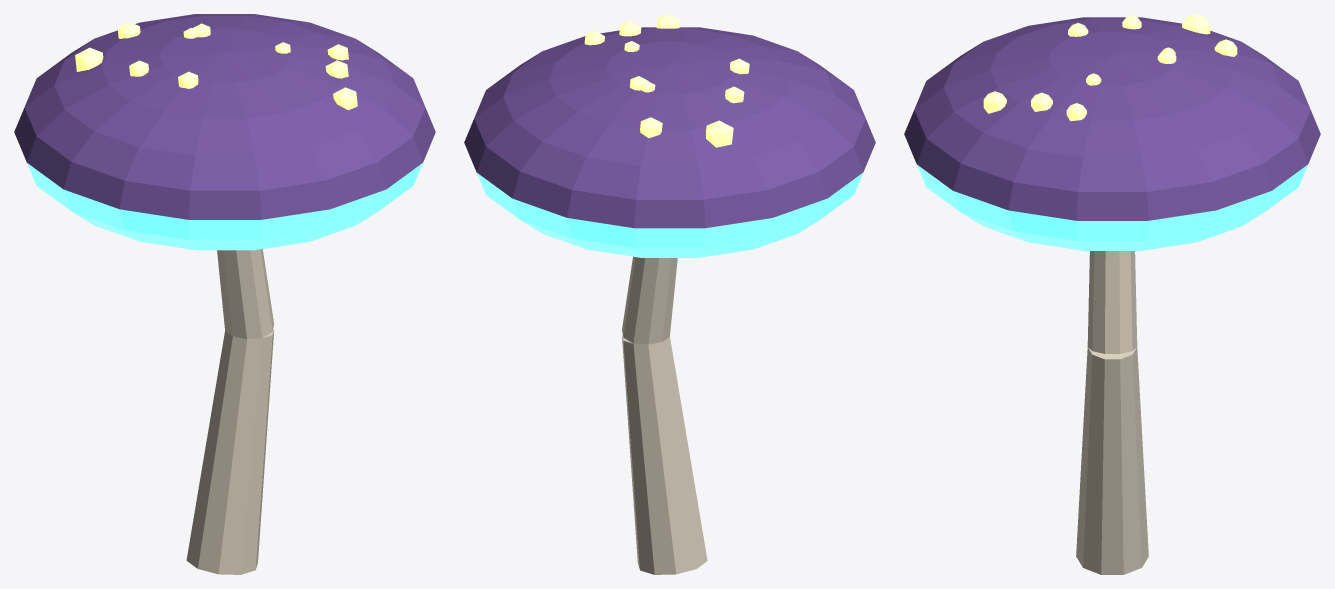
File: tree_mushroom.glb
The picture shows the model from 3 angles, left to right: view 1: azimuth 30°, elevation 25°; view 2: azimuth 150°, elevation 25°; view 3: azimuth 270°, elevation 25°; orthographic projection. The views are drawn at different scales.
Parts seen in each view (by area): view 1: tree_mushroom; view 2: tree_mushroom; view 3: tree_mushroom.
Boxes of the visible parts, bbox=[...] form: tree_mushroom: bbox=[14, 14, 435, 574]; tree_mushroom: bbox=[464, 14, 875, 574]; tree_mushroom: bbox=[904, 14, 1320, 574].
Size of the model in its own units: 12.41 by 17.15 by 12.6.
